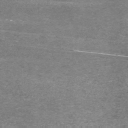finishing roll printing: (74, 50, 128, 58)
